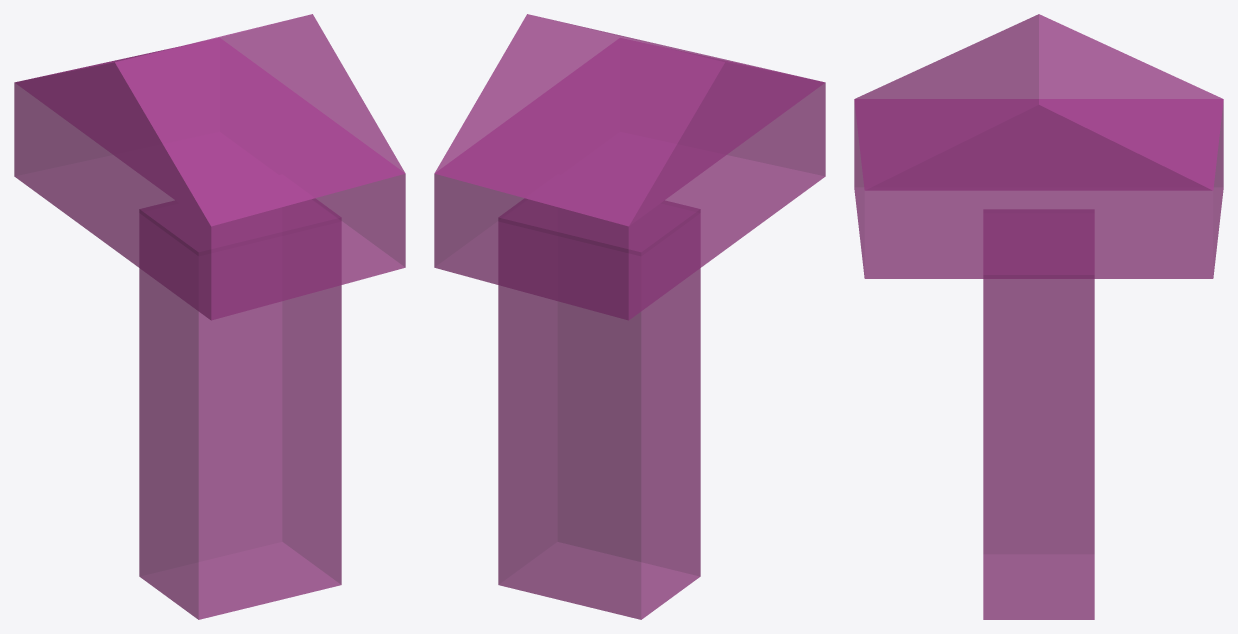
The model's file is SM_Bld_Fence_Dobei_End_02_Collision_01.fbx.
3 renders of one model, left to right at view 1: azimuth 30°, elevation 25°; view 2: azimuth 150°, elevation 25°; view 3: azimuth 270°, elevation 25°, orthographic. The views are drawn at different scales.
Parts seen in each view (by area): view 1: SM_Bld_Fence_Dobei_End_02_Collision_01; view 2: SM_Bld_Fence_Dobei_End_02_Collision_01; view 3: SM_Bld_Fence_Dobei_End_02_Collision_01.
Boxes of the visible parts, x1,y1,x2,y2 form: SM_Bld_Fence_Dobei_End_02_Collision_01: (14, 14, 405, 619); SM_Bld_Fence_Dobei_End_02_Collision_01: (434, 14, 825, 619); SM_Bld_Fence_Dobei_End_02_Collision_01: (854, 14, 1223, 619).
Bounding box in the file's own units: 115 × 301 × 196.
